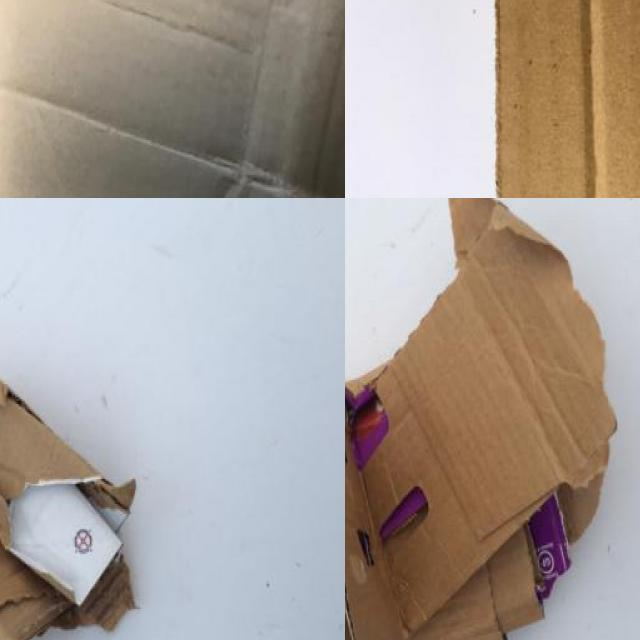class_name: (345, 198, 622, 640), (0, 0, 345, 198), (0, 341, 143, 640), (491, 0, 640, 198)
